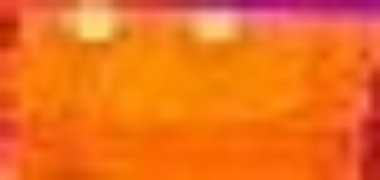Hotspot: (21, 8, 254, 46)
